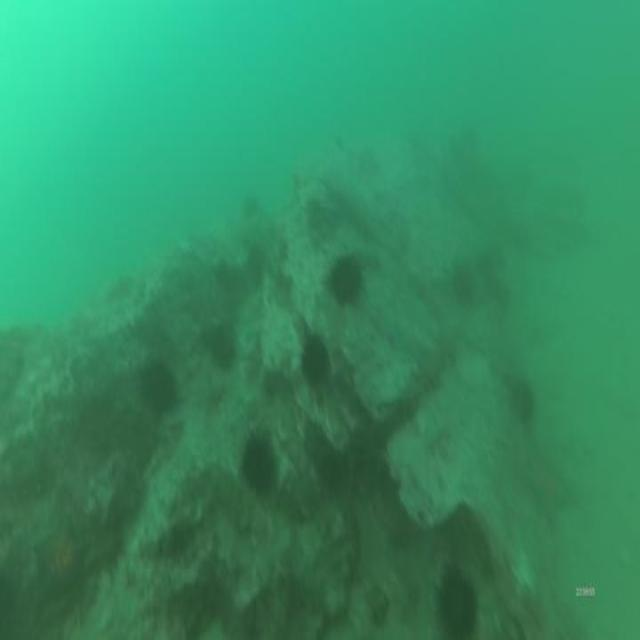echinus: (438, 576, 477, 638), (142, 364, 174, 421), (244, 435, 274, 493), (333, 255, 361, 308), (509, 378, 534, 427), (303, 333, 325, 384), (452, 261, 474, 303), (211, 324, 233, 365)
starfish: (34, 523, 84, 599)
